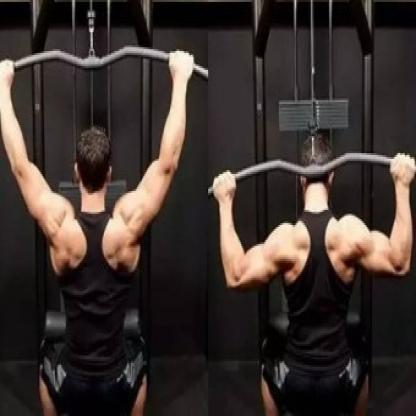Lat Pull Down: (0, 0, 210, 416), (208, 0, 416, 416)
